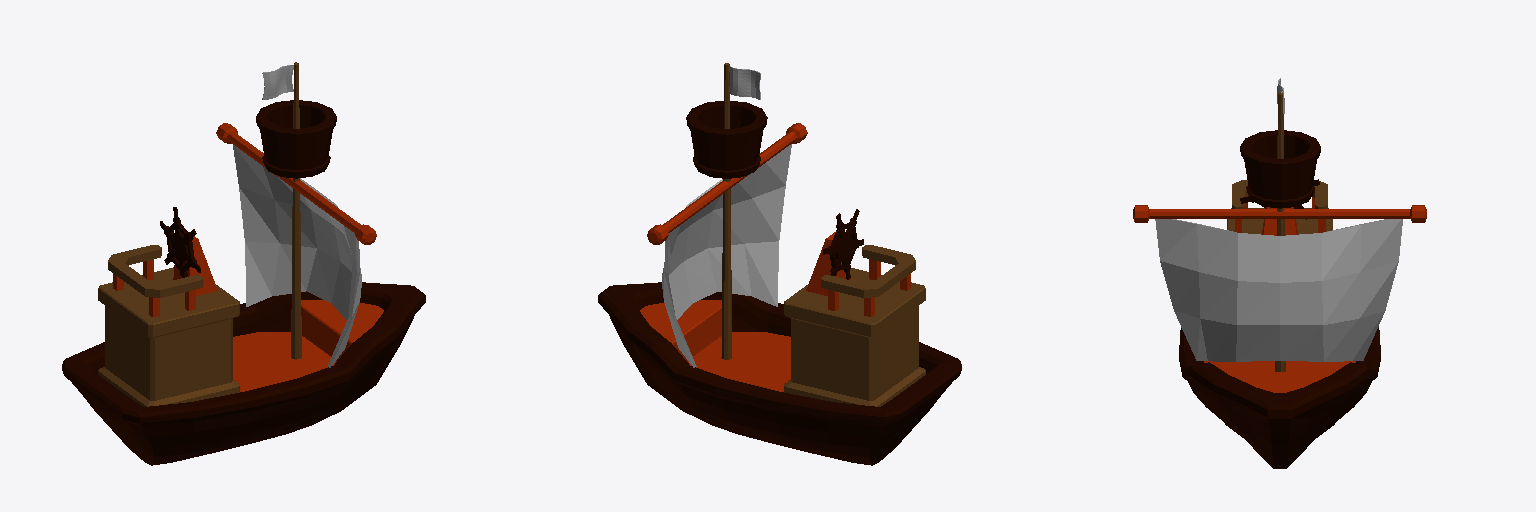
The model's file is boat.obj.
The picture shows the model from 3 angles: view 1: azimuth 30°, elevation 25°; view 2: azimuth 150°, elevation 25°; view 3: azimuth 270°, elevation 25°; orthographic projection.
Visible parts, largest first — view 1: pasted__pCube2; view 2: pasted__pCube2; view 3: pasted__pCube2.
Part boxes in pixels (x1,y1,x2,y2): pasted__pCube2: (62,62,425,465); pasted__pCube2: (598,63,961,465); pasted__pCube2: (1133,78,1426,468).
Size of the model in its own units: 3.37 by 3.59 by 2.61.